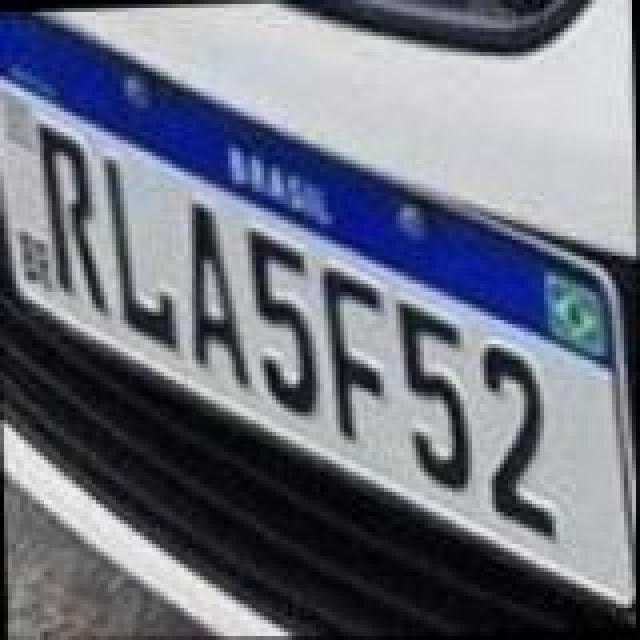2: (478, 342, 558, 550)
5: (392, 294, 472, 494), (244, 220, 320, 420)
A: (190, 196, 254, 392)
F: (316, 256, 388, 440)
L: (100, 152, 180, 356)
R: (34, 114, 114, 318)
